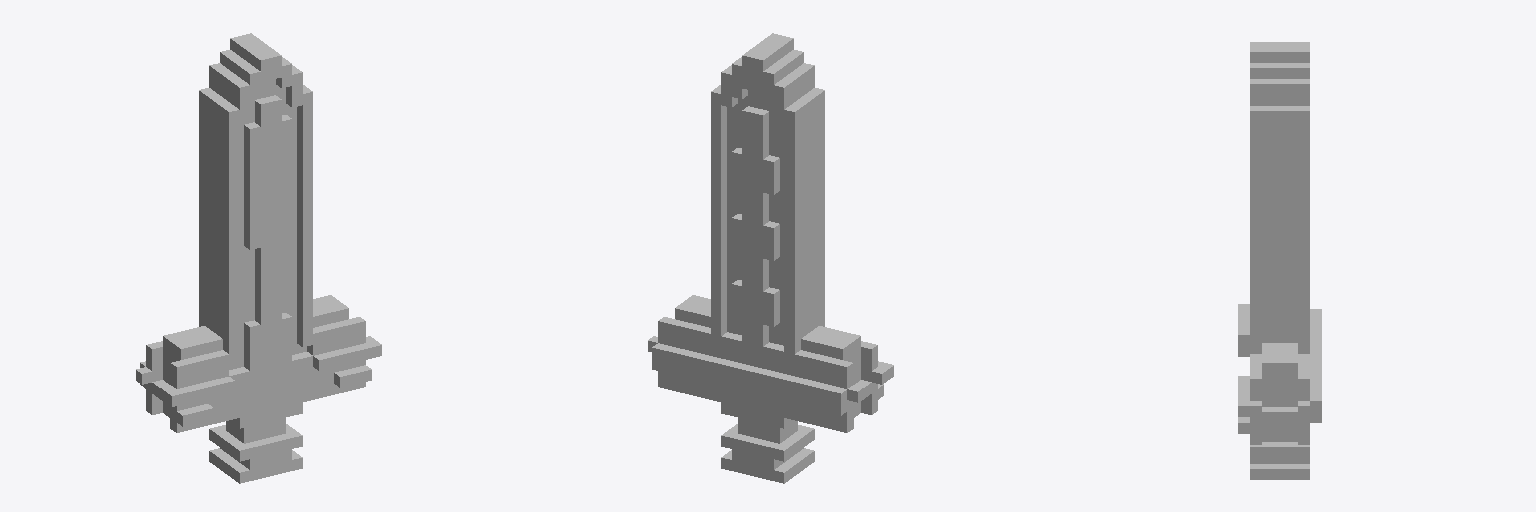
The model's file is Voxel Sword.obj.
3 views of the same model, side by side, from view 1: azimuth 30°, elevation 25°; view 2: azimuth 150°, elevation 25°; view 3: azimuth 270°, elevation 25° (orthographic).
Visible parts, largest first — view 1: object 1; view 2: object 1; view 3: object 1.
Boxes of the visible parts, x1=… form: object 1: x1=136, y1=33, x2=381, y2=483; object 1: x1=648, y1=33, x2=893, y2=483; object 1: x1=1238, y1=42, x2=1321, y2=479.
Size of the model in its own units: 2 by 3.8 by 0.7.